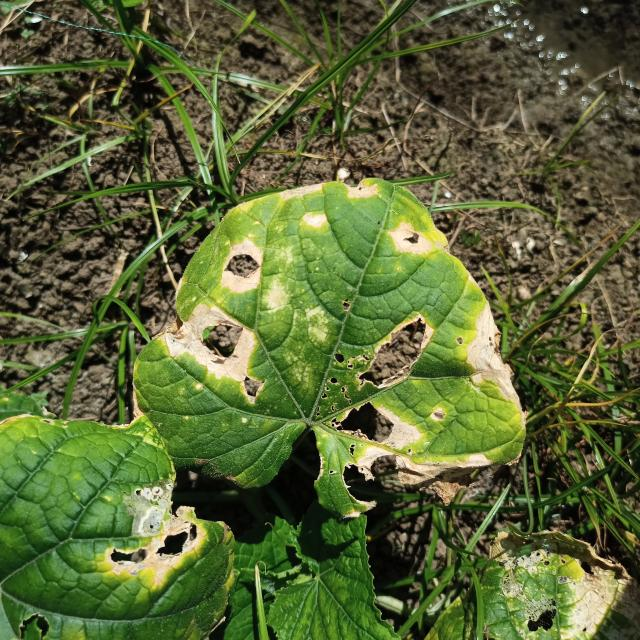disease_cucumber: (165, 173, 520, 486), (103, 500, 208, 585)
